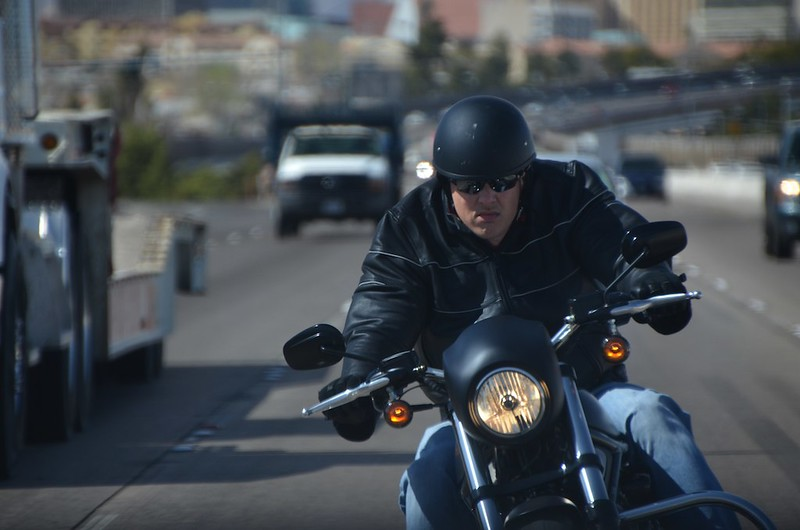helmet: (428, 92, 540, 174)
